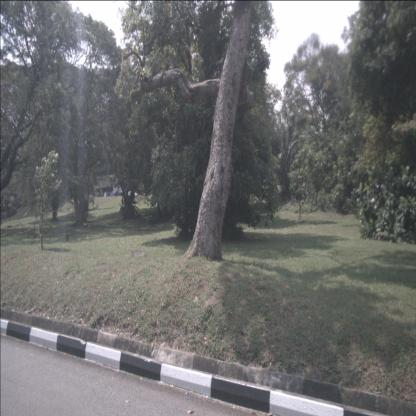vehicle-car: (128, 190, 138, 198), (111, 190, 120, 198), (104, 191, 113, 199)
